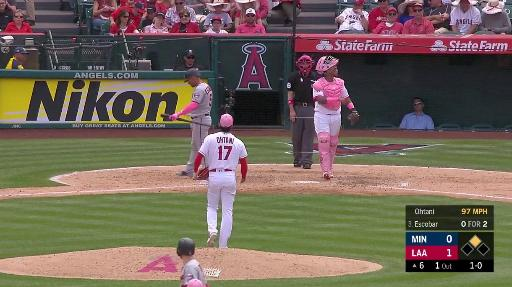pitcher: (193, 113, 249, 250)
